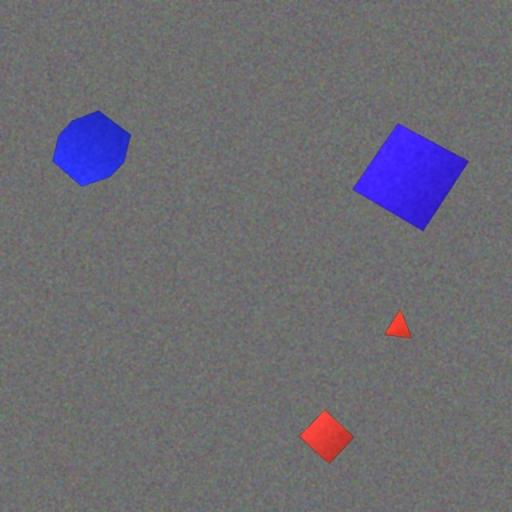BLUE_SQUARE: (351, 122, 470, 232)
RED_SQUARE: (298, 409, 356, 465)
